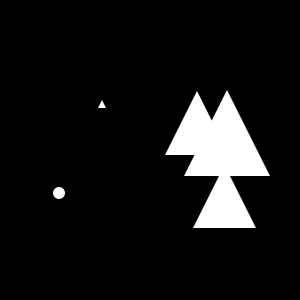rectangle: (53, 187, 65, 199)
triangle: (184, 90, 270, 176), (165, 91, 229, 155), (193, 165, 256, 228), (98, 100, 106, 108)
